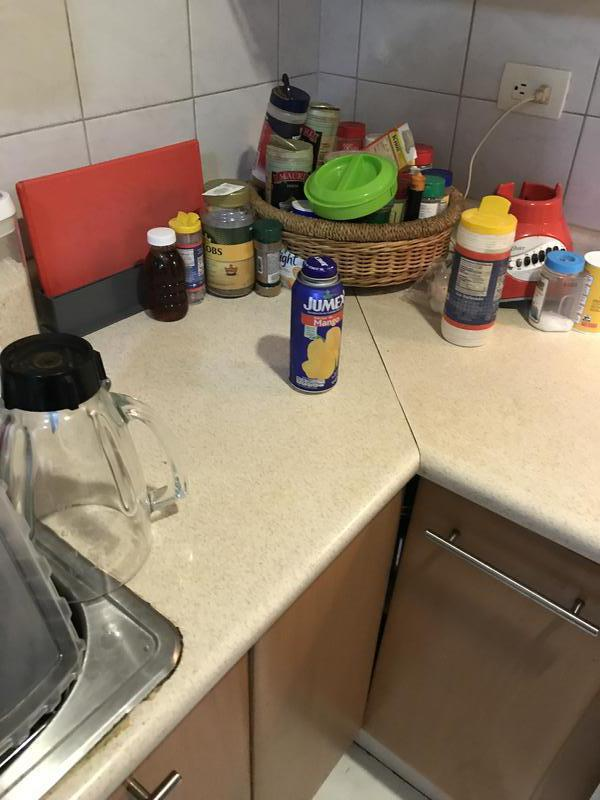jugo_jumex: (291, 258, 344, 394)
